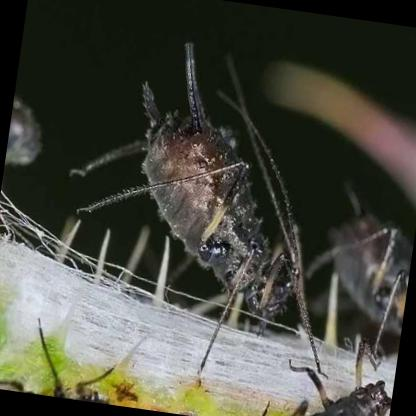uroleucon compositae: (138, 37, 326, 374)
